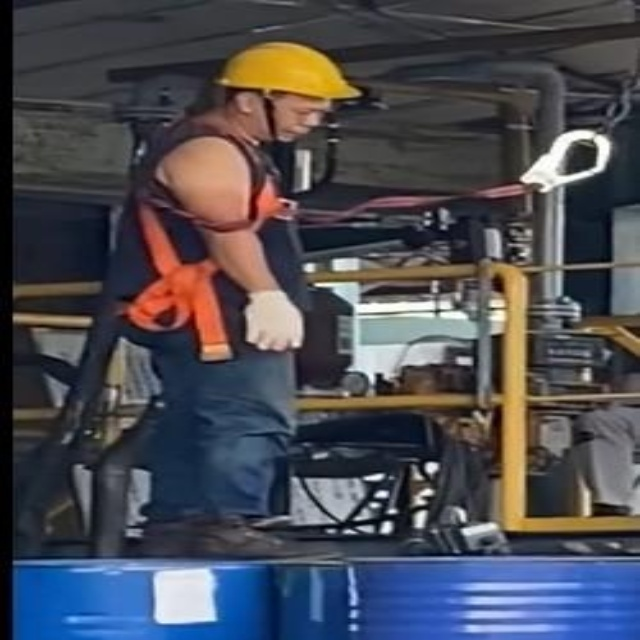Arnes_seguridad: (109, 113, 298, 366)
